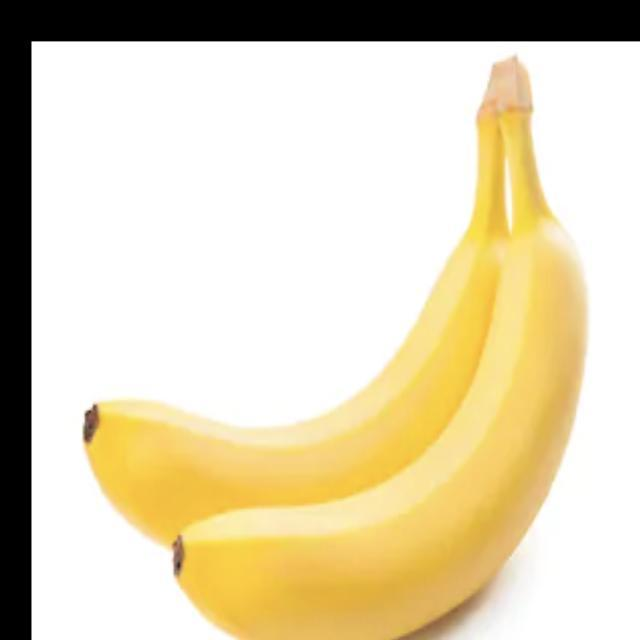Banana: (81, 53, 589, 639)
